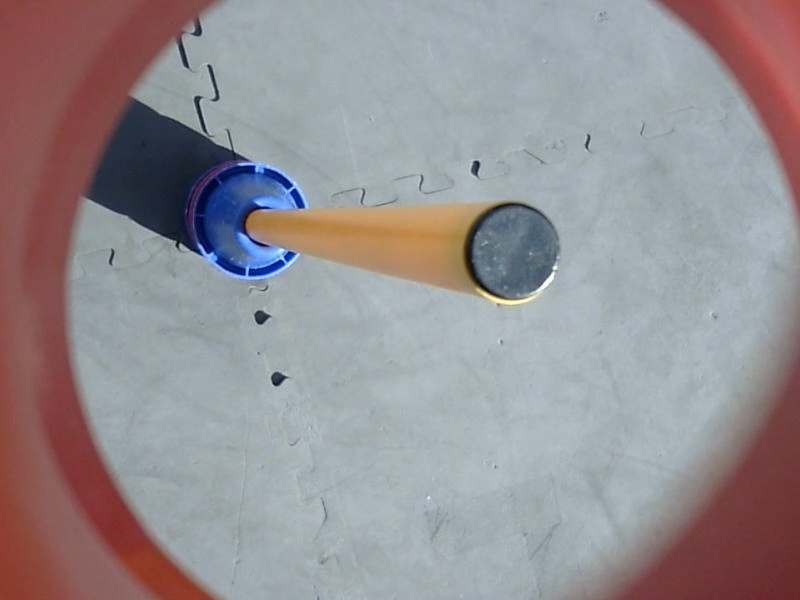tip: (460, 199, 566, 308)
